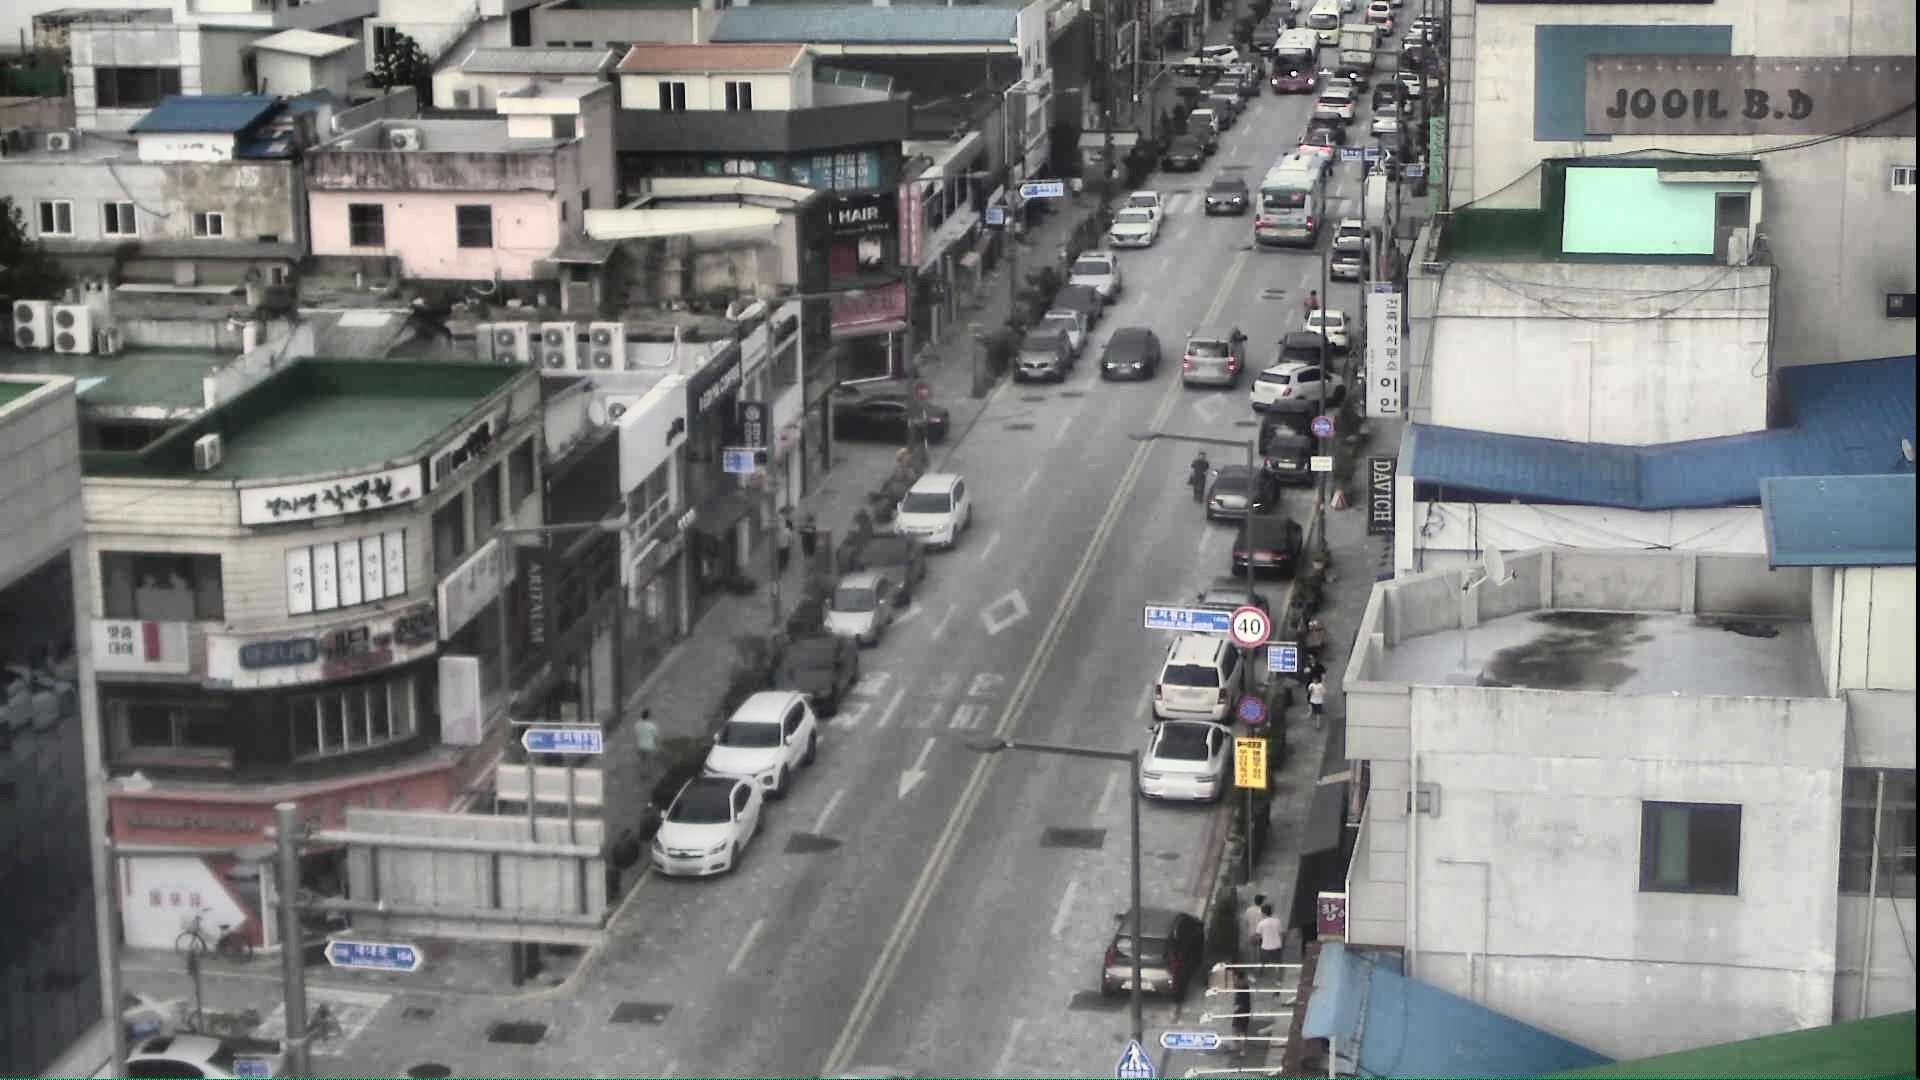jaywalk: (1188, 450, 1208, 504), (1302, 286, 1320, 332)
sidewalk: (1222, 967, 1253, 1058), (624, 705, 662, 775), (1240, 890, 1269, 980), (1259, 909, 1287, 985), (796, 510, 822, 572), (771, 508, 793, 579), (1300, 651, 1328, 702), (1304, 678, 1327, 727)
